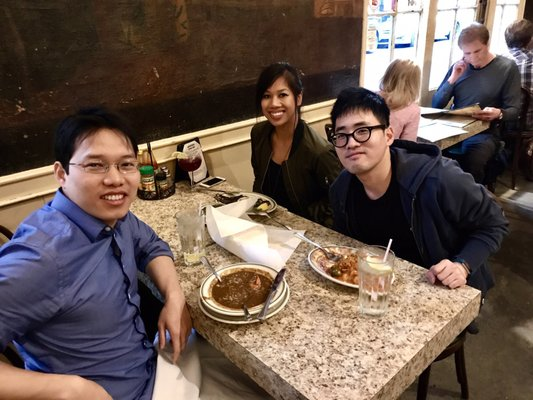pizza: (357, 250, 395, 316), (176, 209, 205, 266)
